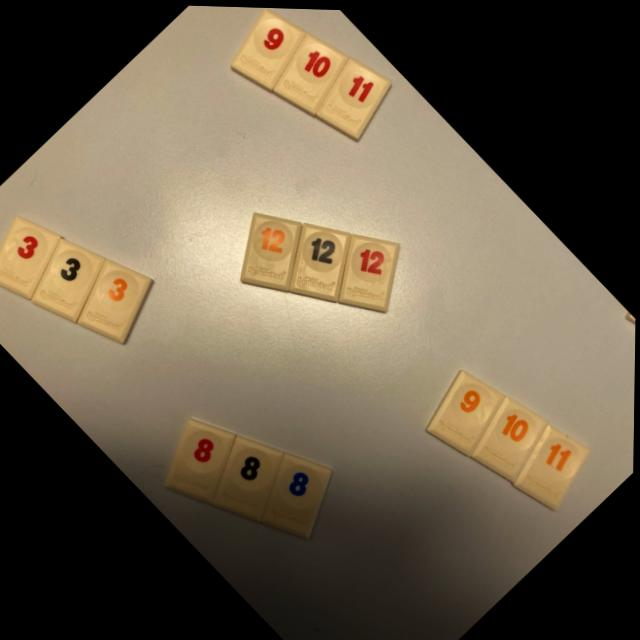black_12: (289, 222, 351, 298)
black_3: (31, 239, 104, 321)
black_8: (213, 434, 283, 519)
blue_8: (262, 451, 332, 536)
orange_10: (472, 393, 548, 478)
orange_11: (514, 422, 590, 506)
orange_12: (240, 212, 301, 288)
orange_3: (77, 259, 152, 342)
orange_9: (427, 368, 504, 453)
red_10: (273, 32, 347, 113)
red_11: (316, 56, 390, 138)
red_12: (339, 232, 399, 309)
red_3: (0, 216, 61, 298)
red_8: (165, 417, 236, 501)
red_9: (230, 7, 304, 89)
